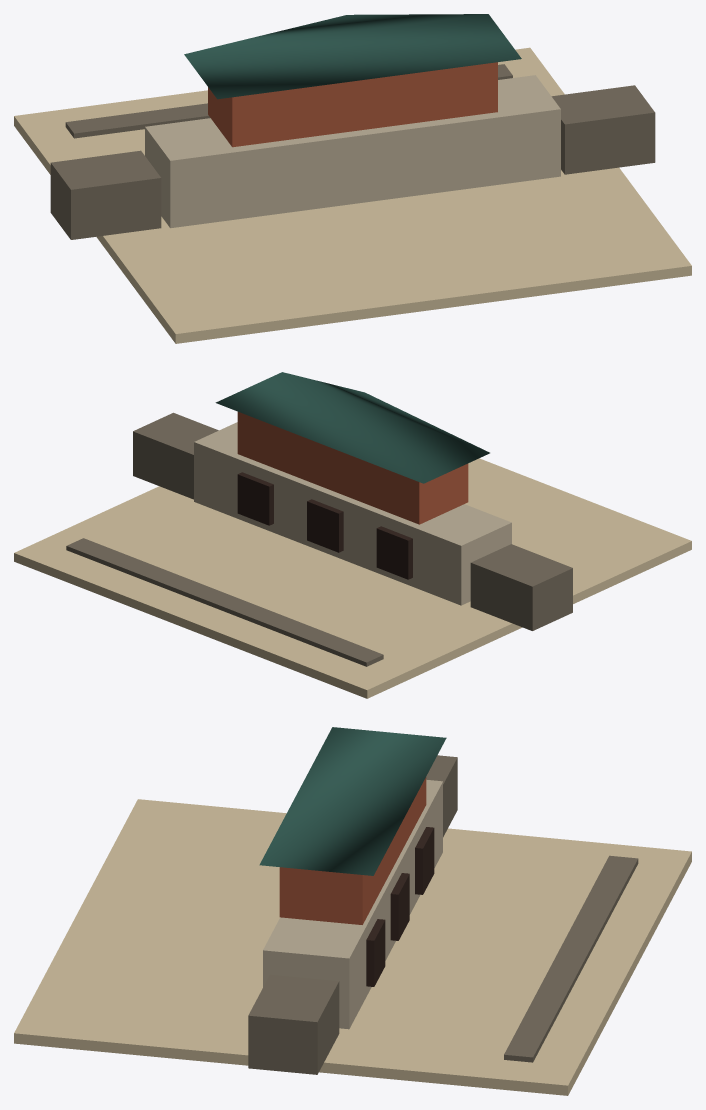
The model's file is model-medium.glb.
The picture shows the model from 3 angles, top to bottom: view 1: azimuth 30°, elevation 25°; view 2: azimuth 150°, elevation 25°; view 3: azimuth 270°, elevation 25°; orthographic projection. The views are drawn at different scales.
Parts seen in each view (by area): view 1: context_site_plinth, city_gate_platform, gatehouse_roof, side_wall_segment (×2), upper_gatehouse_body, front_scale_strip; view 2: context_site_plinth, city_gate_platform, gatehouse_roof, side_wall_segment (×2), upper_gatehouse_body, front_scale_strip, arched_gate_opening (×3); view 3: context_site_plinth, gatehouse_roof, city_gate_platform, side_wall_segment (×2), front_scale_strip, upper_gatehouse_body, arched_gate_opening (×3).
Boxes of the visible parts, x1,y1,x2,y2 form: context_site_plinth: [14, 47, 691, 343]; city_gate_platform: [145, 75, 560, 228]; gatehouse_roof: [184, 14, 521, 99]; side_wall_segment (×2): [50, 85, 655, 239]; upper_gatehouse_body: [208, 62, 497, 147]; front_scale_strip: [65, 64, 512, 138]; context_site_plinth: [14, 458, 691, 698]; city_gate_platform: [194, 422, 511, 605]; gatehouse_roof: [215, 372, 489, 483]; side_wall_segment (×2): [133, 412, 572, 630]; upper_gatehouse_body: [237, 412, 468, 524]; front_scale_strip: [66, 538, 383, 666]; arched_gate_opening (×3): [237, 472, 412, 579]; context_site_plinth: [14, 799, 691, 1095]; gatehouse_roof: [259, 727, 446, 875]; city_gate_platform: [263, 779, 442, 1029]; side_wall_segment (×2): [248, 755, 457, 1074]; front_scale_strip: [504, 855, 638, 1062]; upper_gatehouse_body: [279, 777, 426, 924]; arched_gate_opening (×3): [366, 827, 434, 986].
Bounding box in the file's own units: 9.55 × 2.9 × 9.55.
